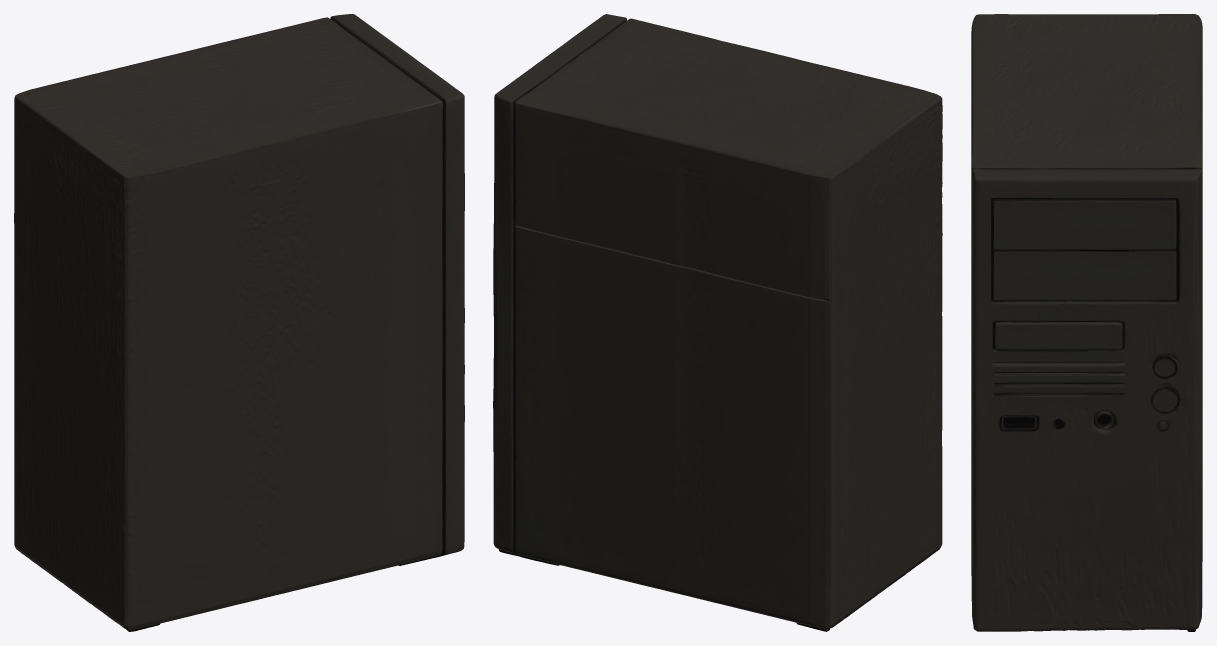
File: tripo_convert_6bb31639-bc95-4fb5-a322-c129debb8c21.obj
3 renders of one model, left to right at view 1: azimuth 30°, elevation 25°; view 2: azimuth 150°, elevation 25°; view 3: azimuth 270°, elevation 25°, orthographic.
Visible parts, largest first — view 1: tripo_node_6bb31639-bc95-4fb5-a322-c129debb8c21; view 2: tripo_node_6bb31639-bc95-4fb5-a322-c129debb8c21; view 3: tripo_node_6bb31639-bc95-4fb5-a322-c129debb8c21.
Boxes of the visible parts, box(x1,y1,x2,y2) form: tripo_node_6bb31639-bc95-4fb5-a322-c129debb8c21: box(14, 14, 464, 631); tripo_node_6bb31639-bc95-4fb5-a322-c129debb8c21: box(493, 14, 942, 631); tripo_node_6bb31639-bc95-4fb5-a322-c129debb8c21: box(971, 14, 1202, 631).
Bounding box in the file's own units: 0.7815 × 1 × 0.4602.
Materials: 1 (1 with a texture image).
